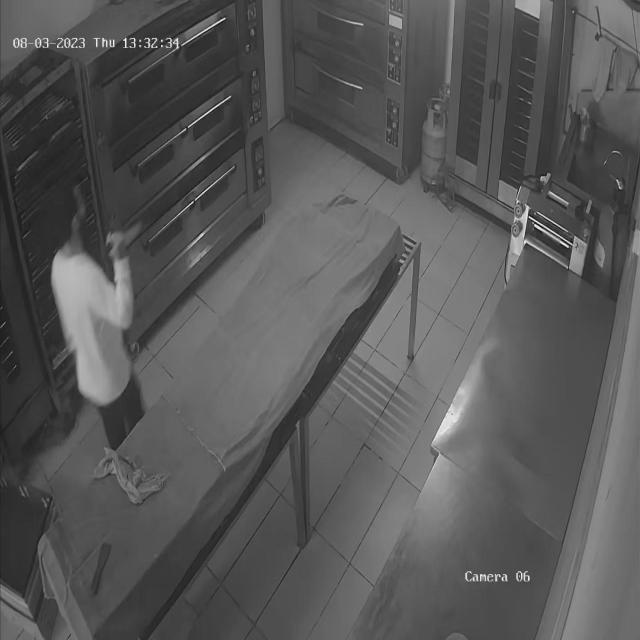Knife: (101, 219, 160, 255)
